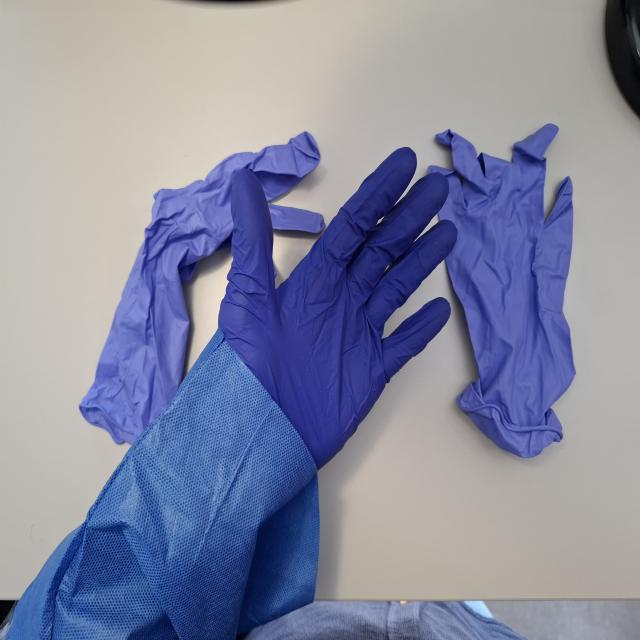glove_on: (215, 143, 460, 473)
